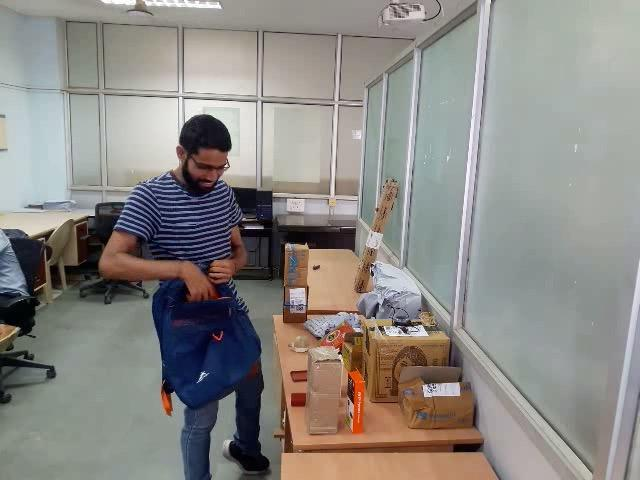shoplifting: (92, 213, 302, 432)
